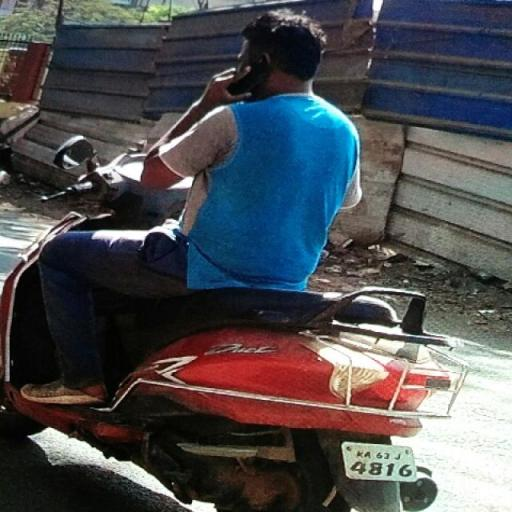bike: (0, 4, 467, 512)
numberplate: (345, 440, 417, 482)
using mobile: (204, 47, 280, 112)
withouthelmet: (244, 9, 326, 88)
